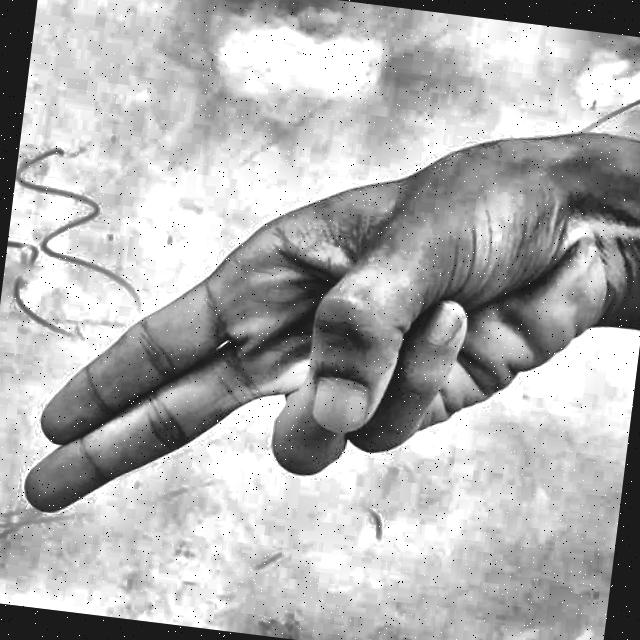Ha: (1, 36, 630, 628)
